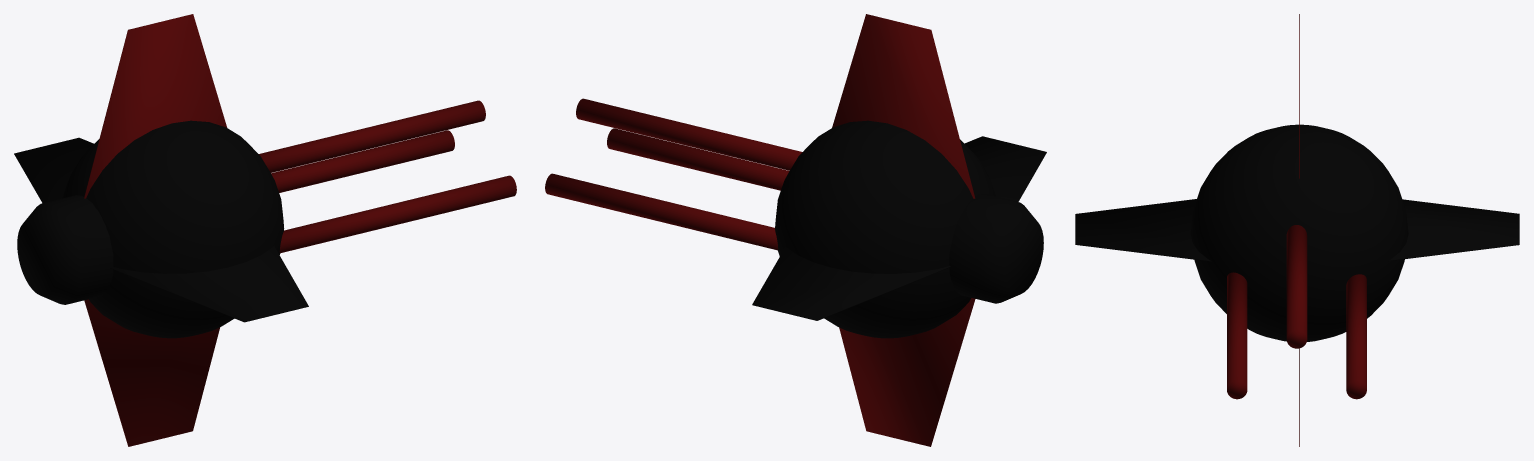
The model's file is enemy1.fbx.
3 renders of one model, left to right at view 1: azimuth 30°, elevation 25°; view 2: azimuth 150°, elevation 25°; view 3: azimuth 270°, elevation 25°, orthographic. The views are drawn at different scales.
Visible parts, largest first — view 1: Cylinder; view 2: Cylinder; view 3: Cylinder.
Boxes of the visible parts, x1,y1,x2,y2 form: Cylinder: (14,14,516,446); Cylinder: (545,14,1046,446); Cylinder: (1075,14,1519,446).
Bounding box in the file's own units: 979 × 879 × 879.
